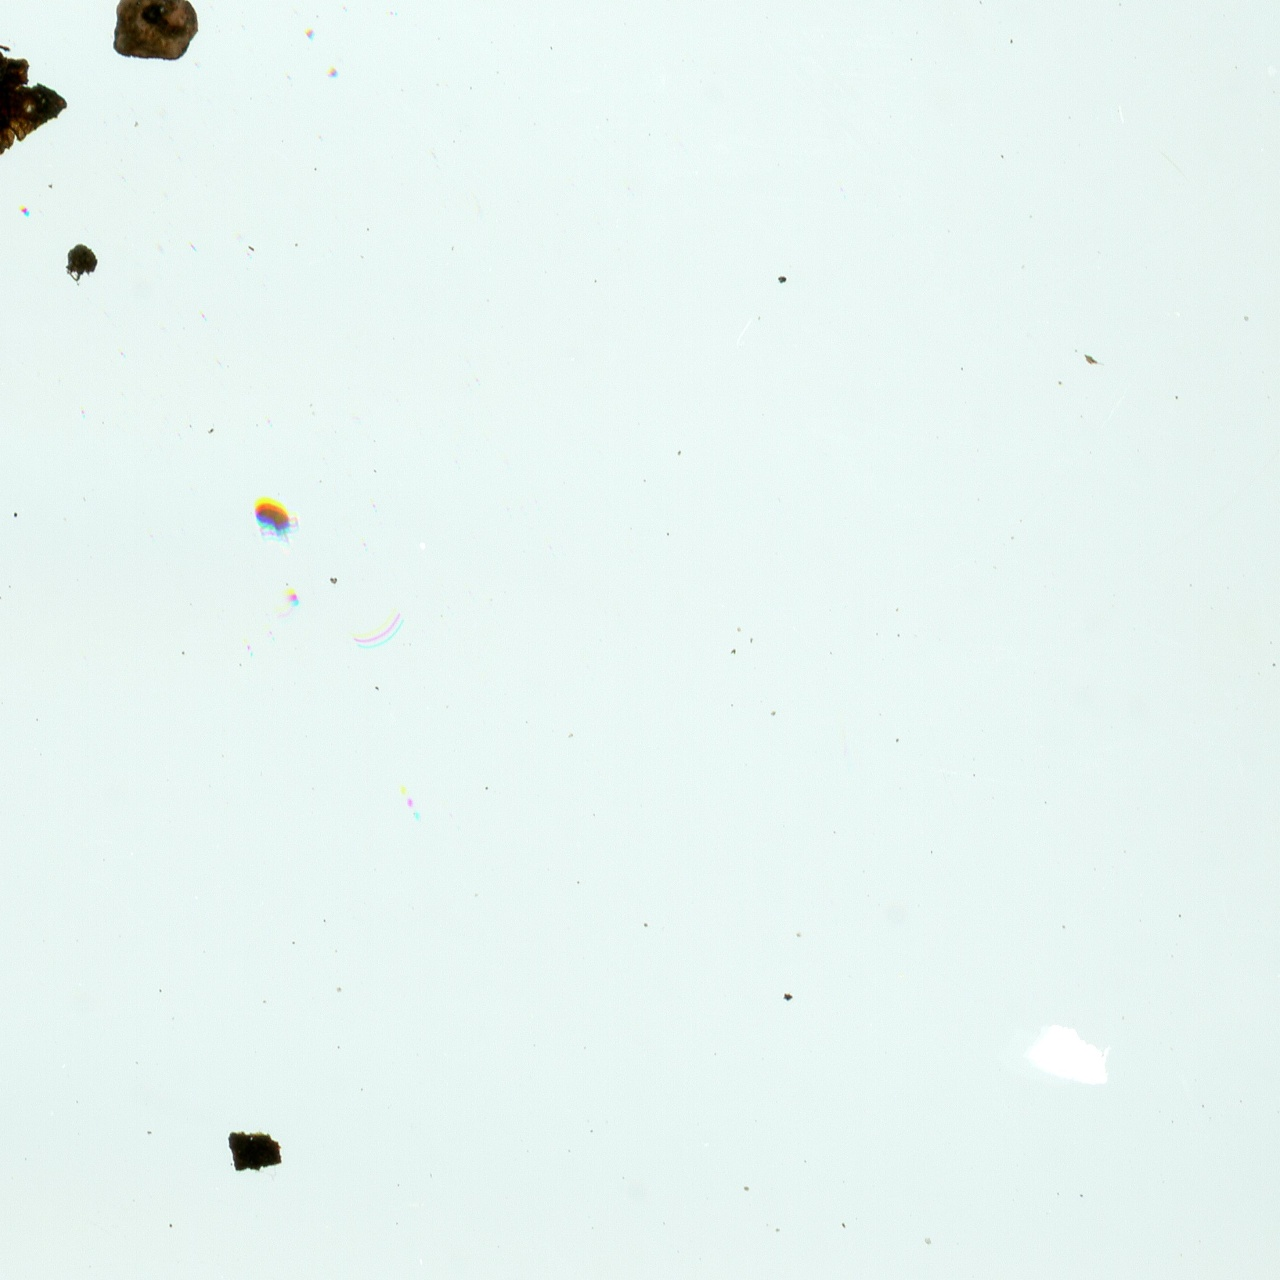arthropod: (243, 495, 305, 547)
